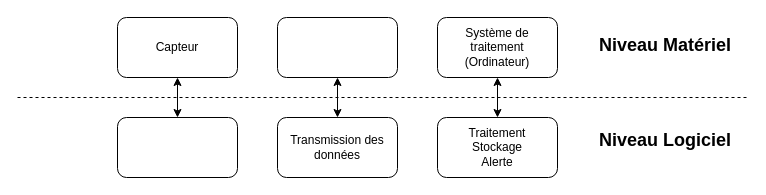
Image size: 766x195. Some labels were removed from this diagram. The shapes that lost their labels are listed below. From the top down, each one's centre as x and y in pixels, then its label:
At (337,47): "Connectivité".
At (177,147): "Capture des donnéés".
